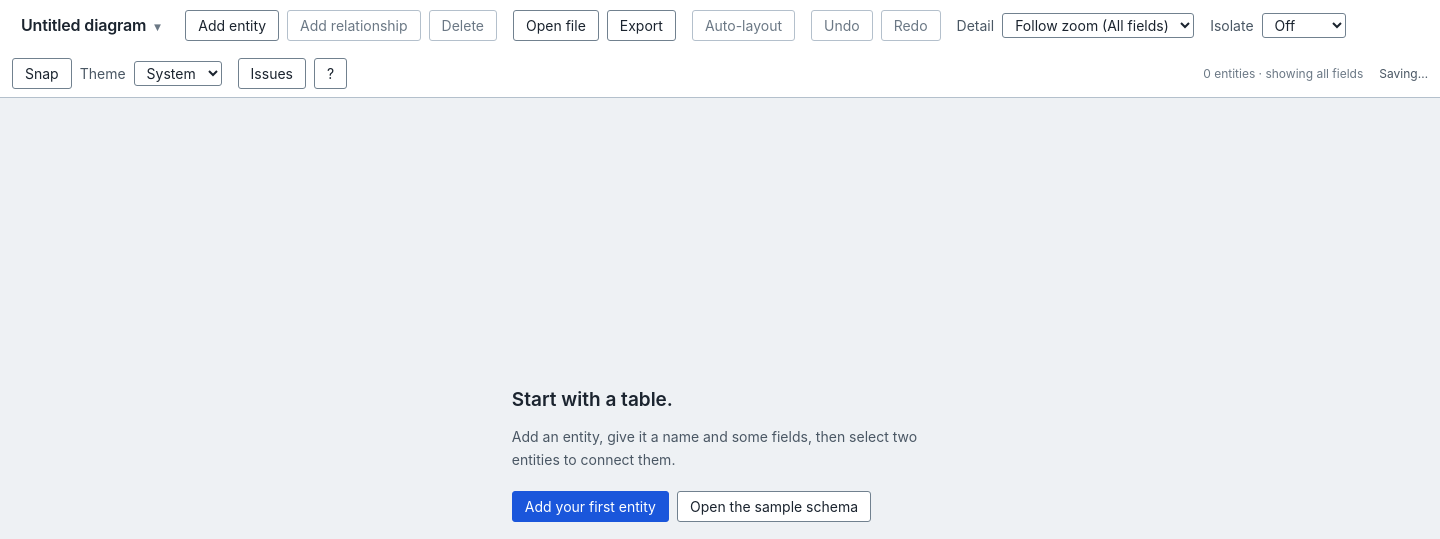
Test: diagram menu › deletes a saved diagram, once the deletion is confirmed
Expected: the text "Start with a table." is shown, [512,386,673,414]
Click the button "Untitled diagram ▾" at x=91, y=25, box [12,8,169,42]
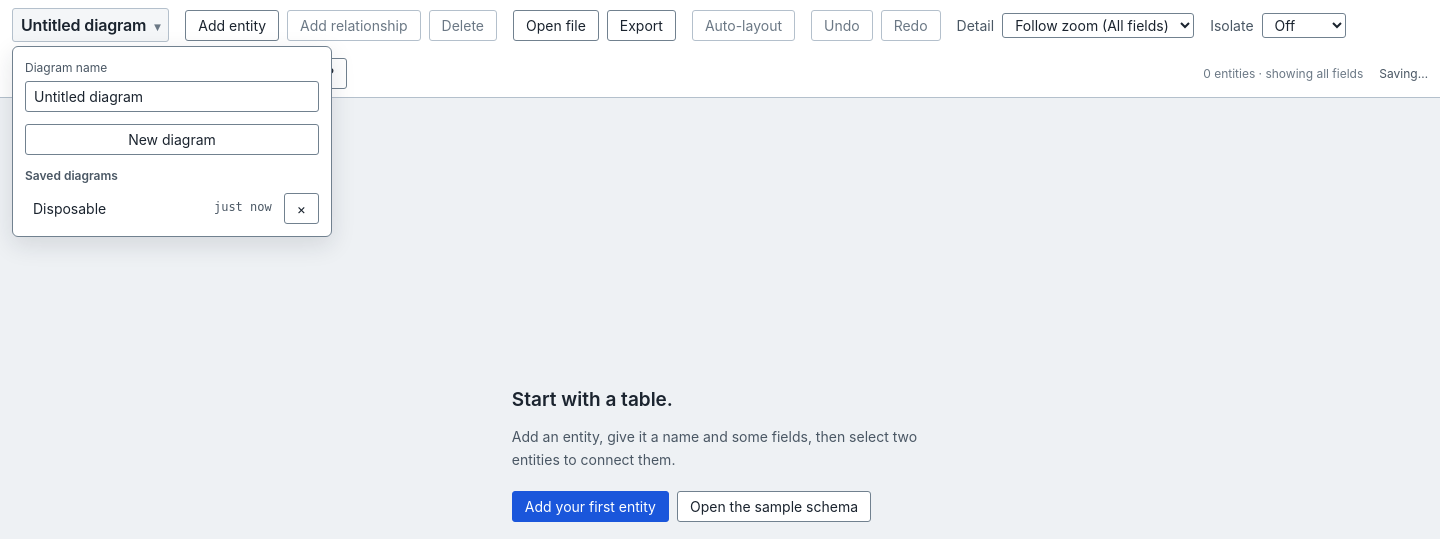
Expected: the button "Disposable just now" is shown, [25,194,280,223]
Click the button named "Delete Disposable" at x=301, y=208, box [284,193,319,224]
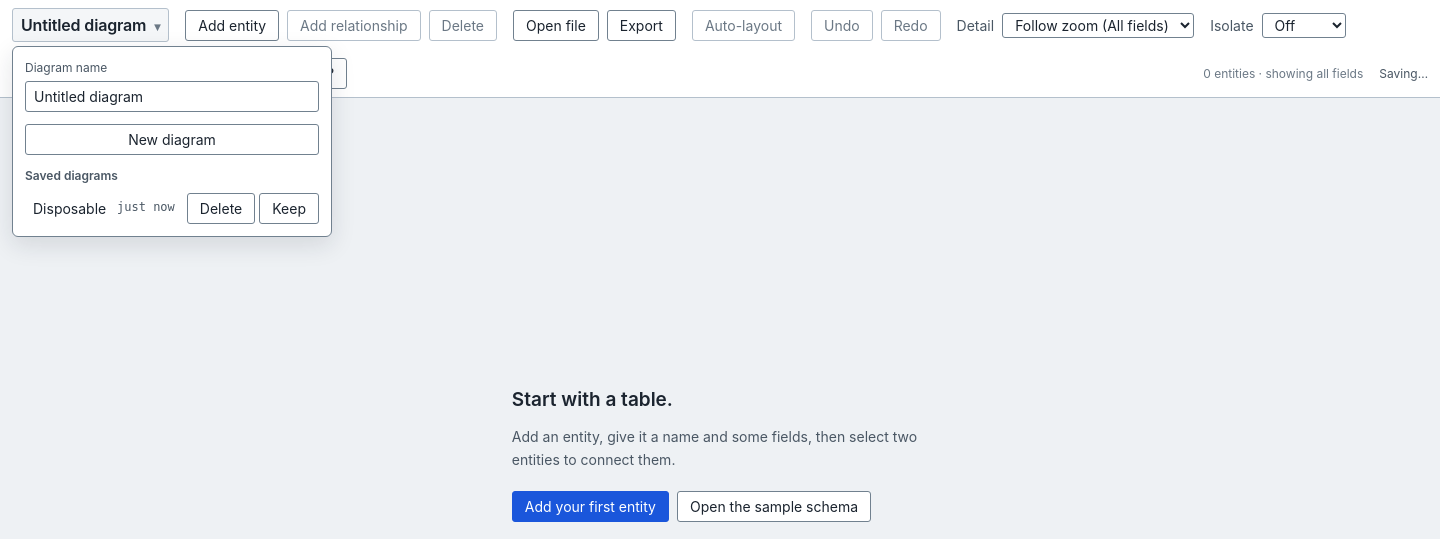
Expected: the button "Disposable just now" is shown, [25,194,183,223]
Click the button with aria-label "Confirm deleting Disposable" at x=221, y=208, box [187,193,255,224]
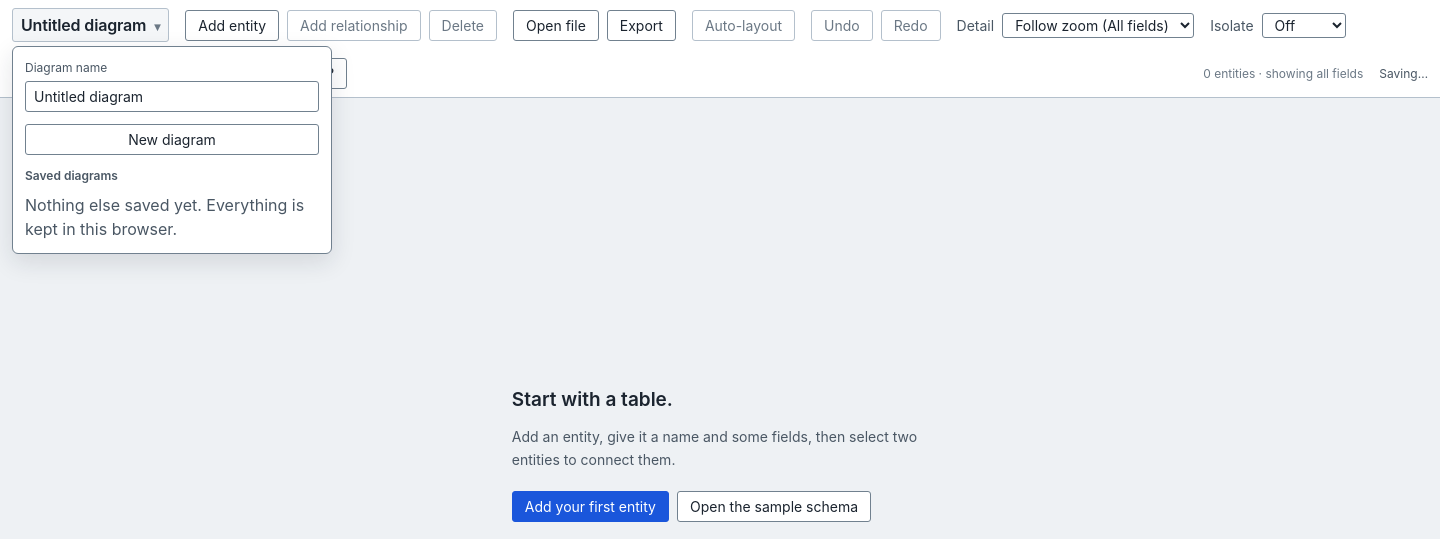
Expected: the button "Disposable" is gone
